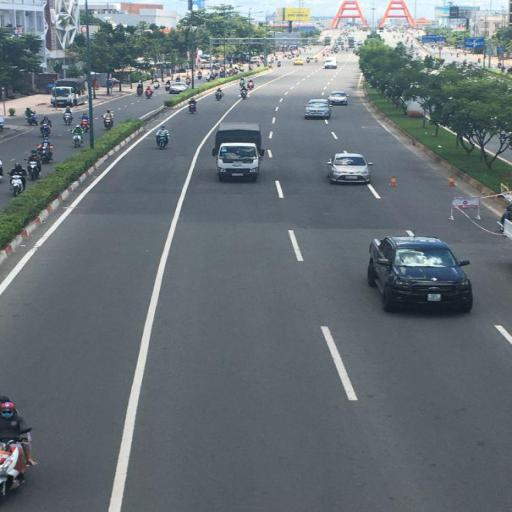car: (367, 234, 473, 314), (327, 153, 375, 187), (304, 99, 332, 121), (328, 92, 348, 106), (324, 61, 338, 70)
motorcycle: (0, 429, 36, 506), (11, 176, 25, 196), (157, 128, 169, 148), (146, 87, 153, 99)
truck: (214, 122, 261, 182), (51, 76, 91, 109)
